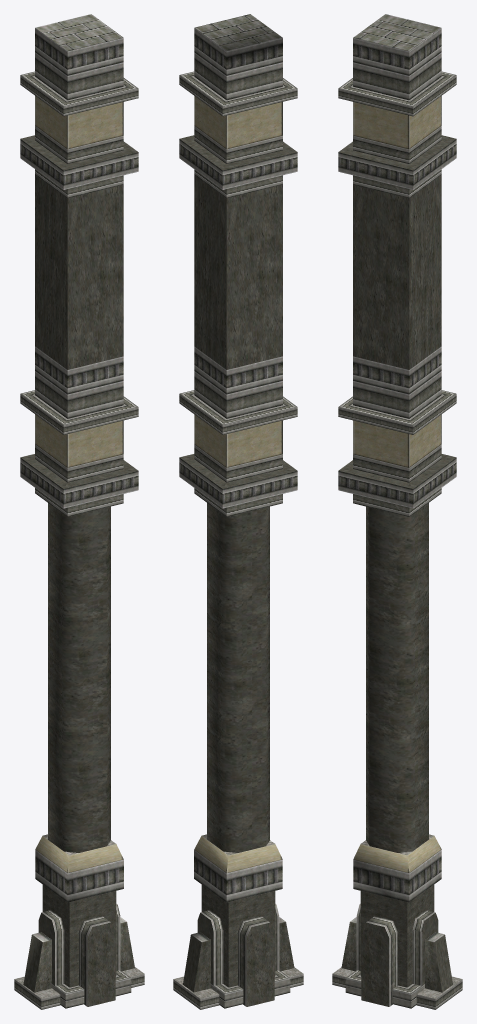
The model's file is L_MOUNTAIN_TALL_COLUMN01.fbx.
3 renders of one model, left to right at view 1: azimuth 30°, elevation 25°; view 2: azimuth 210°, elevation 25°; view 3: azimuth 330°, elevation 25°, orthographic.
Parts seen in each view (by area): view 1: L_MOUNTAIN_TALL_COLUMN01; view 2: L_MOUNTAIN_TALL_COLUMN01; view 3: L_MOUNTAIN_TALL_COLUMN01.
Part boxes in pixels (<box>): L_MOUNTAIN_TALL_COLUMN01: <box>14,14,144,1009</box>; L_MOUNTAIN_TALL_COLUMN01: <box>173,14,303,1009</box>; L_MOUNTAIN_TALL_COLUMN01: <box>332,14,462,1009</box>.
Bounding box in the file's own units: 22003 × 194794 × 16428.
8 materials, 8 textured.
